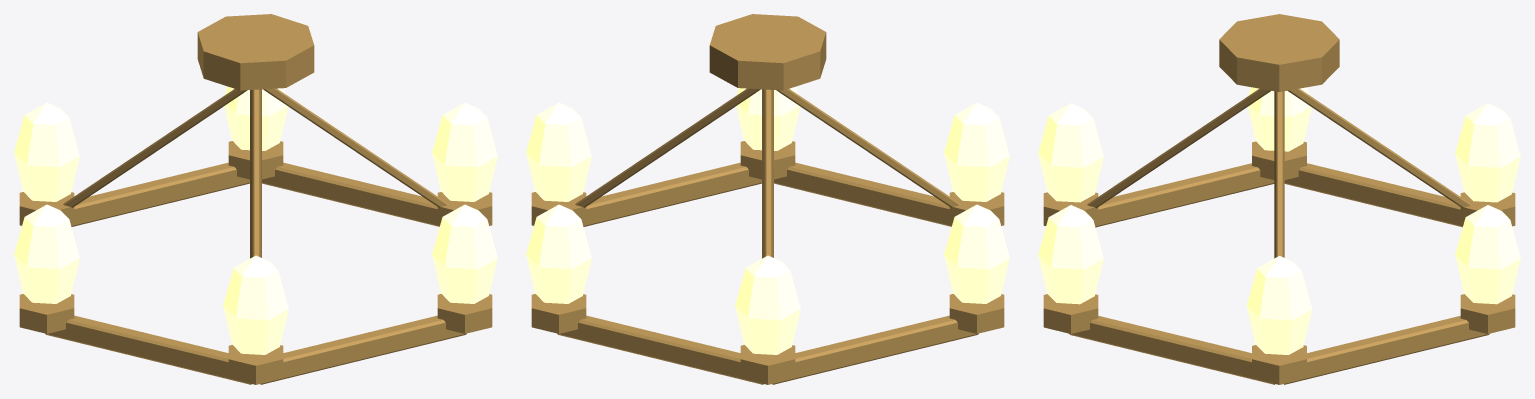
File: chandelier_02.glb
3 views of the same model, side by side, from view 1: azimuth 30°, elevation 25°; view 2: azimuth 150°, elevation 25°; view 3: azimuth 270°, elevation 25° (orthographic).
Parts seen in each view (by area): view 1: Ceiling_rose, Glow_3, Glow_2, Glow_0, Glow_4, Glow_5, Ring_3, Ring_4, Ring_1, Ring_0, Glow_1, Spoke_0 (+9 smaller); view 2: Ceiling_rose, Glow_1, Glow_0, Glow_4, Glow_2, Glow_3, Ring_1, Ring_2, Ring_5, Ring_4, Glow_5, Spoke_0 (+9 smaller); view 3: Ceiling_rose, Glow_4, Glow_2, Glow_1, Glow_5, Glow_0, Ring_0, Ring_5, Ring_3, Ring_2, Glow_3, Spoke_2 (+9 smaller).
Part boxes in pixels (<box>): Ceiling_rose: <box>197,14,314,90</box>; Glow_3: <box>14,204,79,303</box>; Glow_2: <box>14,102,79,201</box>; Glow_0: <box>432,102,497,201</box>; Glow_4: <box>223,255,288,354</box>; Glow_5: <box>432,204,497,303</box>; Ring_3: <box>45,315,251,384</box>; Ring_4: <box>260,315,466,384</box>; Ring_1: <box>71,162,249,226</box>; Ring_0: <box>262,162,439,226</box>; Glow_1: <box>224,86,288,150</box>; Spoke_0: <box>263,88,448,207</box>; Ceiling_rose: <box>709,14,826,90</box>; Glow_1: <box>526,204,591,303</box>; Glow_0: <box>526,102,591,201</box>; Glow_4: <box>944,102,1009,201</box>; Glow_2: <box>735,255,800,354</box>; Glow_3: <box>944,204,1009,303</box>; Ring_1: <box>557,315,763,384</box>; Ring_2: <box>772,315,978,384</box>; Ring_5: <box>583,162,761,226</box>; Ring_4: <box>774,162,951,226</box>; Glow_5: <box>736,86,800,150</box>; Spoke_0: <box>575,88,760,207</box>; Ceiling_rose: <box>1219,14,1339,91</box>; Glow_4: <box>1038,103,1103,202</box>; Glow_2: <box>1455,103,1520,202</box>; Glow_1: <box>1455,205,1520,304</box>; Glow_5: <box>1038,205,1103,304</box>; Glow_0: <box>1246,256,1312,354</box>; Ring_0: <box>1284,316,1489,384</box>; Ring_5: <box>1069,316,1274,384</box>; Ring_3: <box>1095,163,1274,227</box>; Ring_2: <box>1284,163,1462,227</box>; Glow_3: <box>1248,87,1311,151</box>; Spoke_2: <box>1287,88,1471,208</box>.
Size of the model in its own units: 1.81 by 0.8875 by 1.6.
